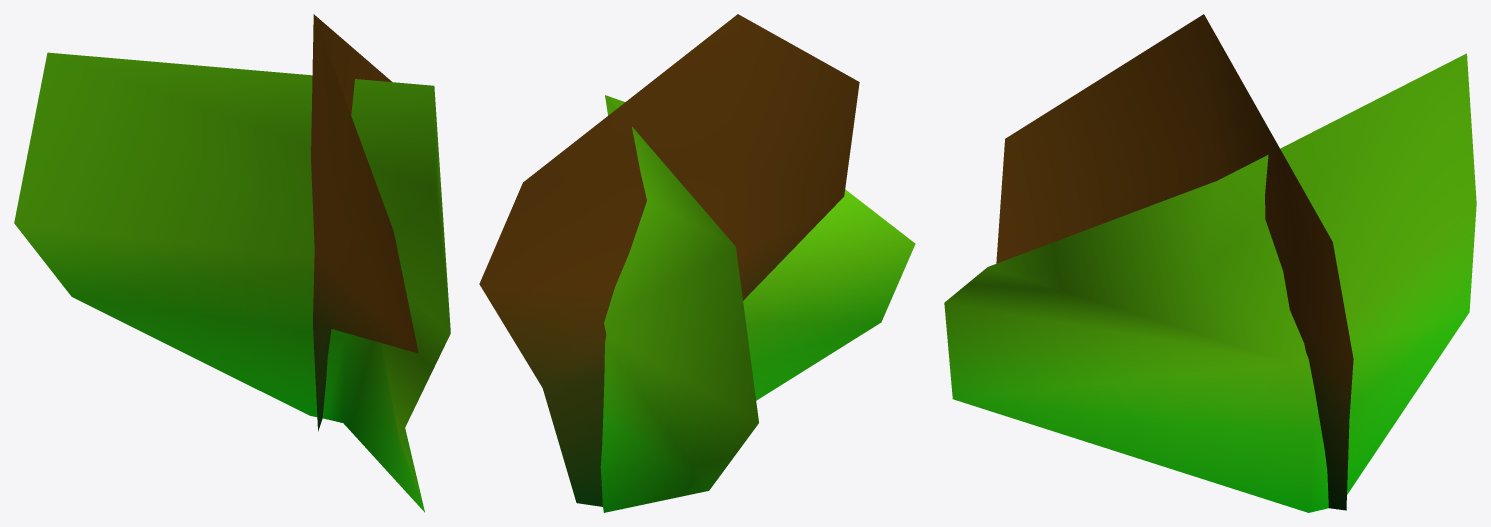
File: Var1Hi4.fbx
3 renders of one model, left to right at view 1: azimuth 30°, elevation 25°; view 2: azimuth 150°, elevation 25°; view 3: azimuth 270°, elevation 25°, orthographic. The views are drawn at different scales.
Visible parts, largest first — view 1: bend1; view 2: bend1; view 3: bend1.
Part boxes in pixels (x1,y1,x2,y2): bend1: (14,14,450,512); bend1: (479,14,915,512); bend1: (944,14,1476,512).
Bounding box in the file's own units: 1.04 × 1.36 × 1.42.
